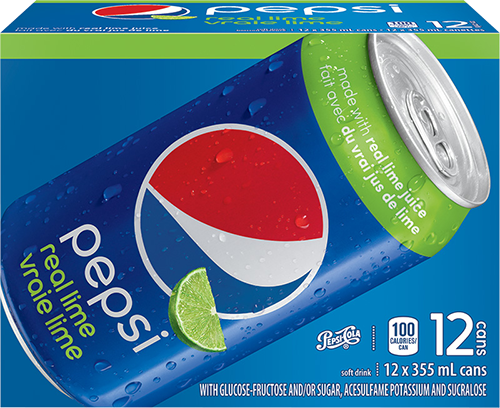pepsi: (132, 121, 328, 318), (132, 127, 328, 318), (91, 2, 189, 20)
